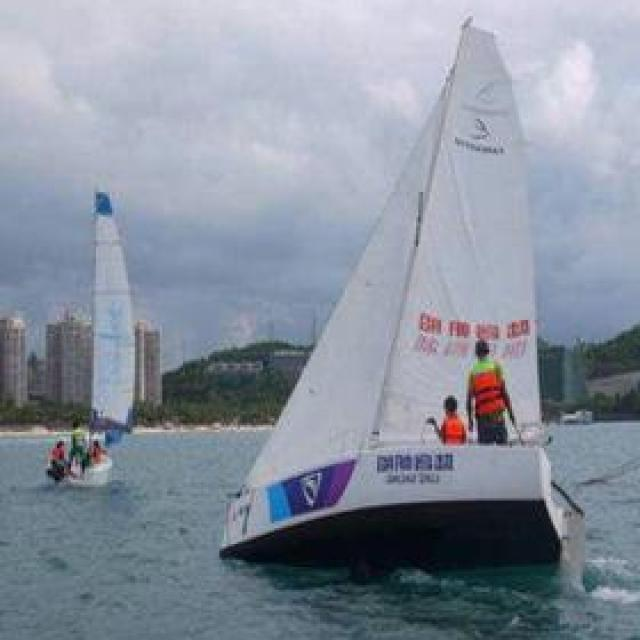sailboat: (200, 17, 570, 557), (28, 150, 156, 494)
